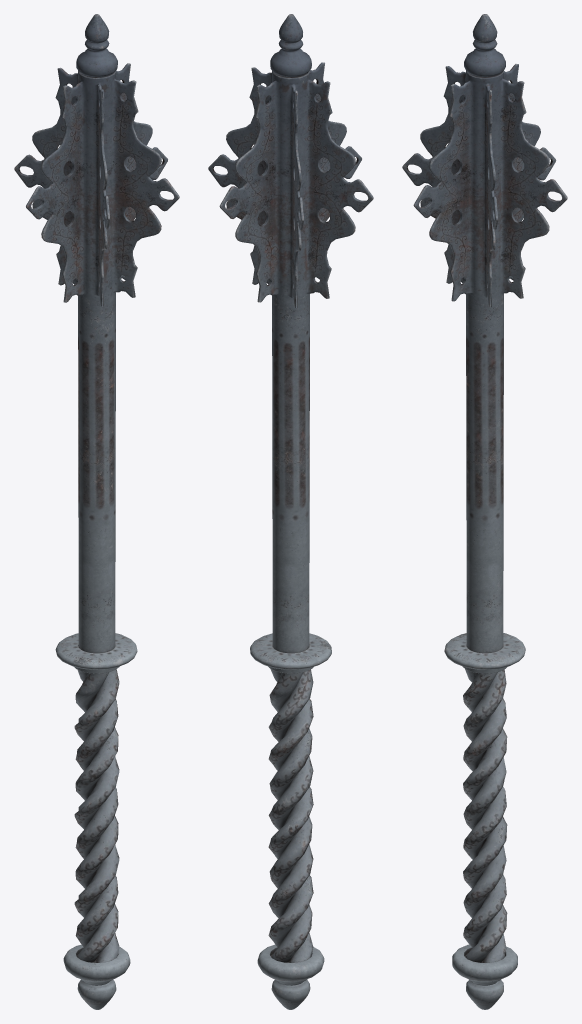
File: mace.glb
The picture shows the model from 3 angles, left to right: view 1: azimuth 30°, elevation 25°; view 2: azimuth 150°, elevation 25°; view 3: azimuth 270°, elevation 25°; orthographic projection.
Parts seen in each view (by area): view 1: mace; view 2: mace; view 3: mace.
Part boxes in pixels (bbox=[...]): mace: bbox=[14, 14, 179, 1009]; mace: bbox=[208, 14, 373, 1009]; mace: bbox=[402, 14, 567, 1009].
Size of the model in its own units: 0.1017 by 0.63 by 0.0949.
1 material, 1 textured.
